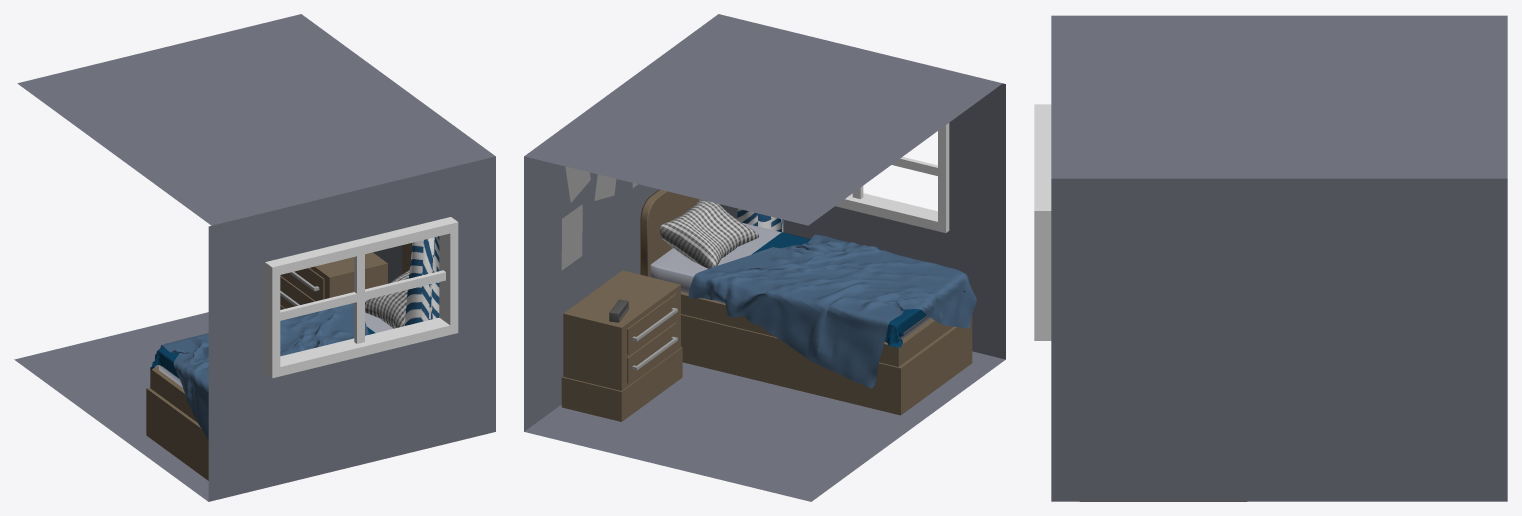
File: quarto 1.fbx
The picture shows the model from 3 angles, left to right: view 1: azimuth 30°, elevation 25°; view 2: azimuth 150°, elevation 25°; view 3: azimuth 270°, elevation 25°; orthographic projection. The views are drawn at different scales.
Visible parts, largest first — view 1: polySurface54, polySurface63, polySurface31, polySurface68, polySurface60, polySurface48, polySurface49, polySurface30, polySurface28; view 2: polySurface54, polySurface31, polySurface68, polySurface60, polySurface30, polySurface63, polySurface34, polySurface29, polySurface48, polySurface52; view 3: polySurface54, polySurface63.
Part boxes in pixels (x1,y1,x2,y2): polySurface54: [14, 14, 495, 501]; polySurface63: [265, 217, 458, 378]; polySurface31: [160, 303, 368, 441]; polySurface68: [146, 243, 412, 480]; polySurface60: [280, 252, 387, 309]; polySurface48: [405, 236, 439, 325]; polySurface49: [280, 270, 445, 320]; polySurface30: [365, 270, 409, 328]; polySurface28: [354, 254, 364, 343]; polySurface54: [524, 14, 1005, 501]; polySurface31: [688, 234, 976, 388]; polySurface68: [640, 189, 972, 415]; polySurface60: [561, 270, 682, 421]; polySurface30: [660, 199, 758, 268]; polySurface63: [835, 123, 949, 232]; polySurface34: [751, 232, 965, 347]; polySurface29: [561, 204, 582, 270]; polySurface48: [737, 208, 783, 232]; polySurface52: [565, 166, 590, 202]; polySurface54: [1051, 15, 1507, 501]; polySurface63: [1034, 104, 1051, 340].
Size of the model in its own units: 2.31 by 2.13 by 2.81.
11 materials, 2 textured.
